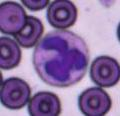N: (32, 30, 90, 86)
